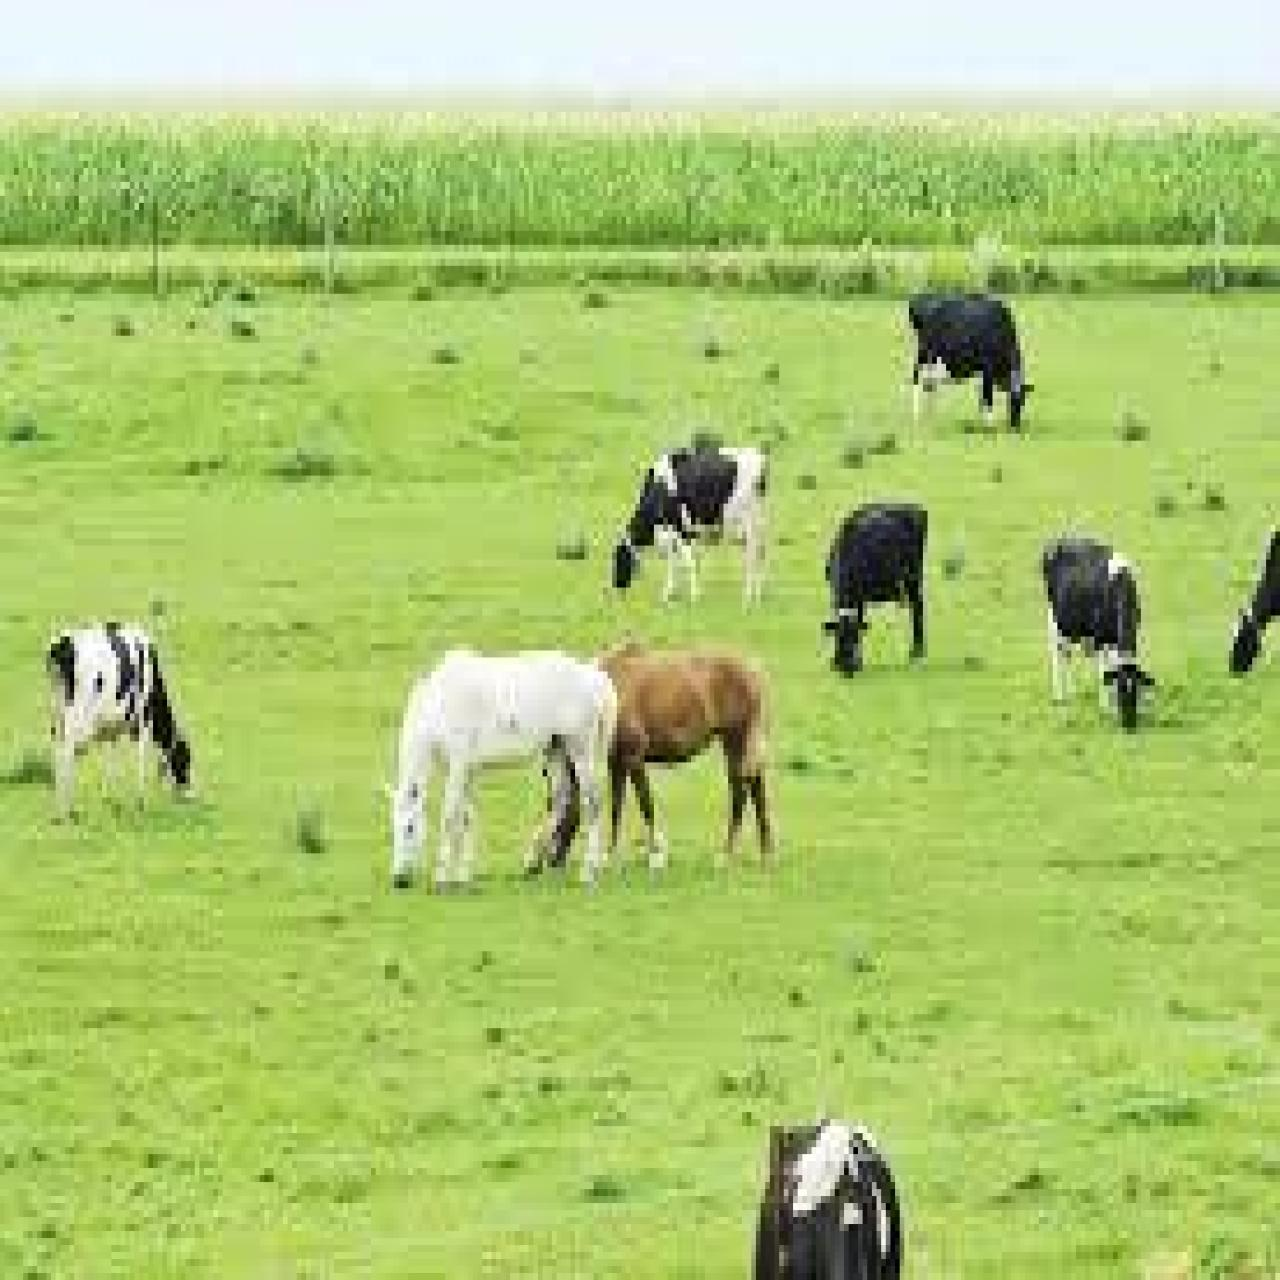cow: (45, 622, 197, 825), (607, 434, 779, 608), (1032, 542, 1162, 731), (754, 1119, 903, 1280), (904, 266, 1039, 434), (821, 497, 932, 679), (1228, 531, 1280, 679)
